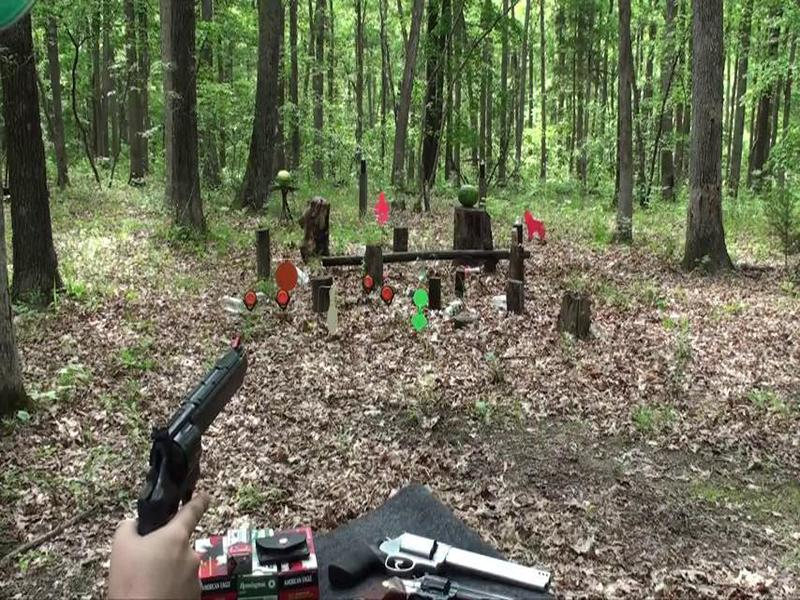Revolver: (110, 336, 272, 547)
